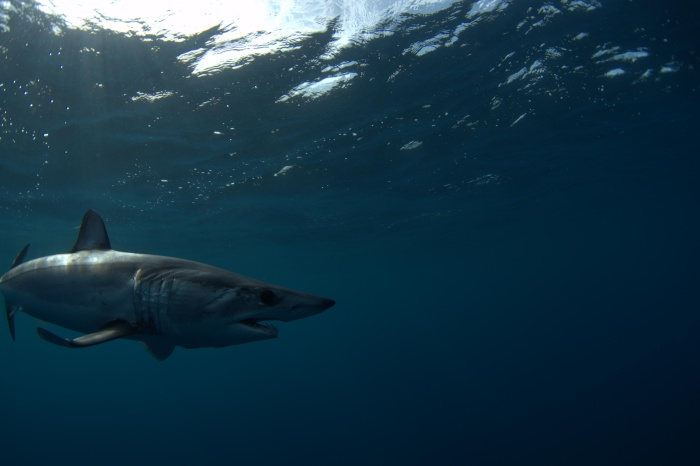Mako: (1, 202, 344, 377)
